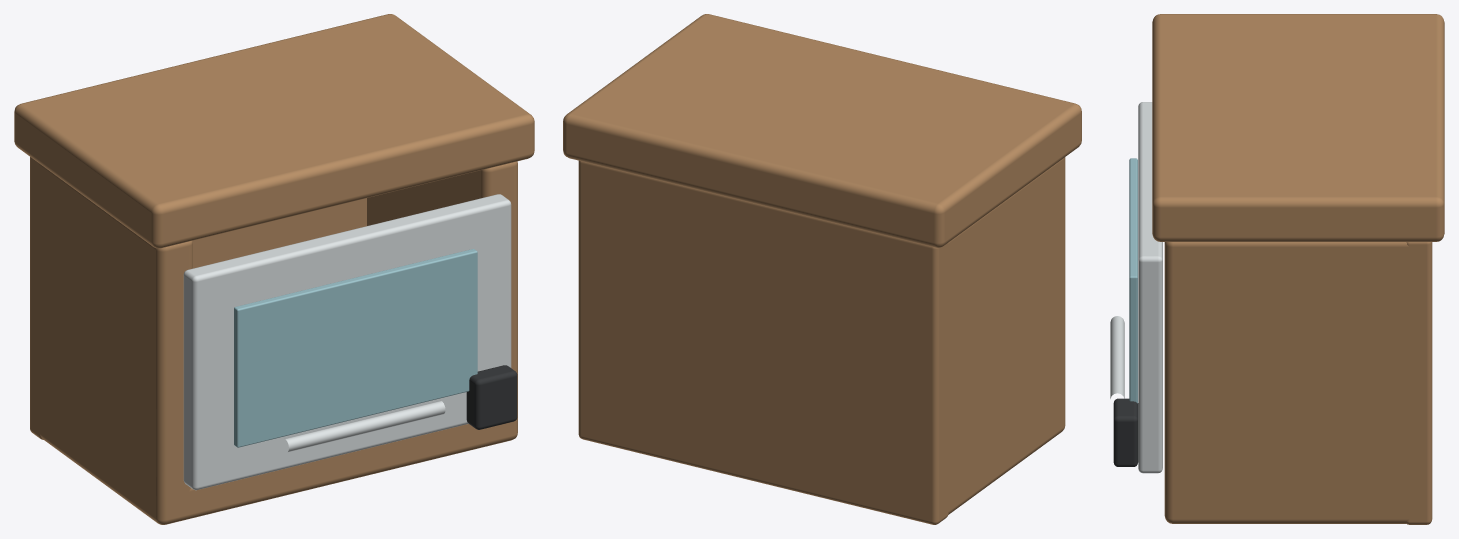
The model's file is barbershop-and-hair-salon-tool-sterilizer-cabinet-bbd20fbf__29679.glb.
3 views of the same model, side by side, from view 1: azimuth 30°, elevation 25°; view 2: azimuth 150°, elevation 25°; view 3: azimuth 270°, elevation 25° (orthographic).
Parts seen in each view (by area): view 1: tool-sterilizer-cabinet; view 2: tool-sterilizer-cabinet; view 3: tool-sterilizer-cabinet.
Part boxes in pixels (bbox=[...]): tool-sterilizer-cabinet: bbox=[14, 14, 534, 524]; tool-sterilizer-cabinet: bbox=[563, 14, 1081, 524]; tool-sterilizer-cabinet: bbox=[1110, 14, 1444, 524].
Size of the model in its own units: 0.635 by 0.52 by 0.4745.
